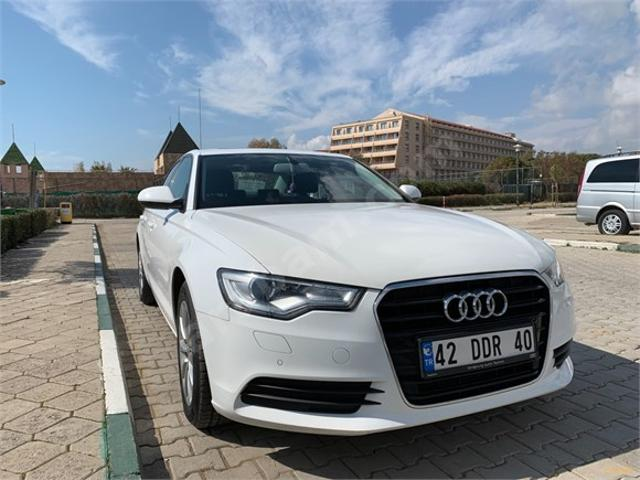audi: (435, 285, 510, 323)
